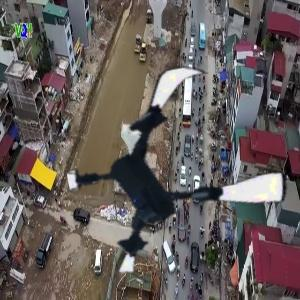drone: (70, 66, 287, 283)
